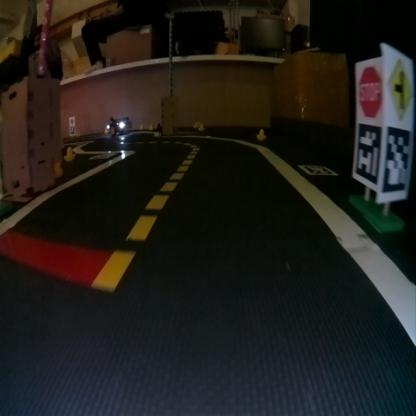Duckie: (52, 161, 63, 176), (63, 146, 74, 160), (256, 128, 265, 137), (139, 122, 144, 129), (192, 122, 198, 127), (148, 123, 153, 128), (198, 123, 202, 127)
Duckiebot: (107, 116, 128, 134)
Intersection sign: (384, 46, 412, 120), (68, 116, 74, 125)
QR code: (381, 128, 411, 201), (352, 122, 377, 186), (298, 165, 337, 174), (68, 126, 75, 134)
Stop sign: (356, 64, 380, 116)
